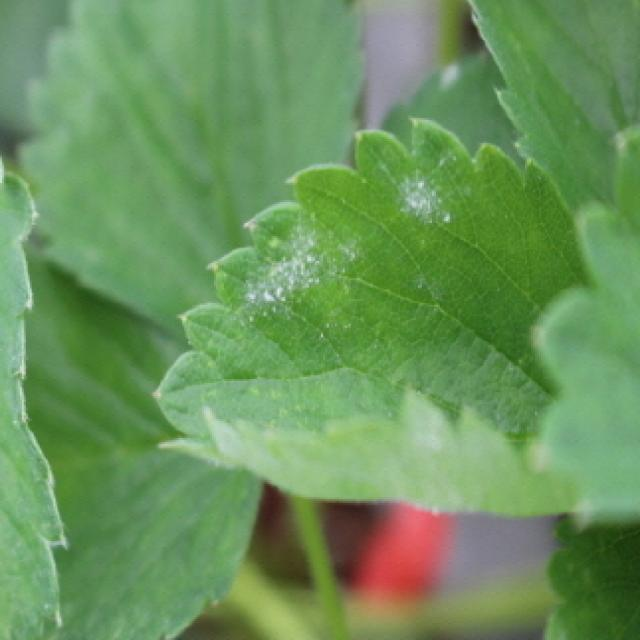Powdery Mildew Leaf: (151, 117, 592, 519)
